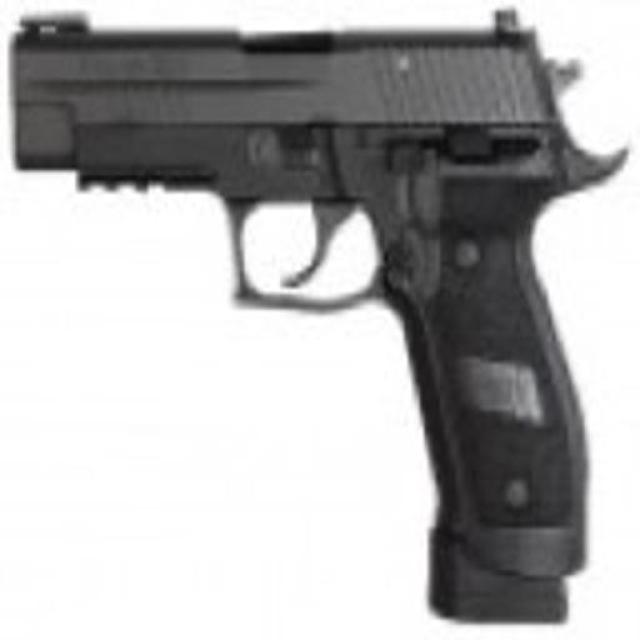pistol: (15, 15, 611, 634)
